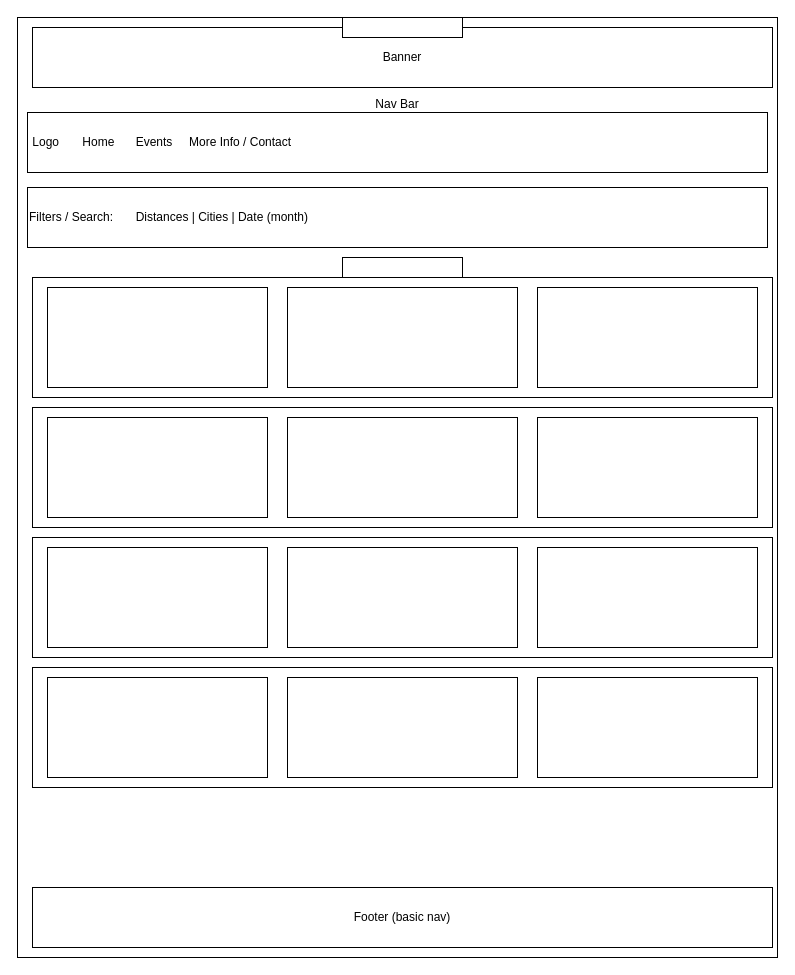
The diagram is 795 pixels wide and 975 high, and some of its shapes have lost their labels. The shapes that lost their labels are listed below. From the top down, each one's centre as x and y in pixels, then its label:
At (x=402, y=27): "Events List".
At (x=402, y=267): "Event Grid/Table".
